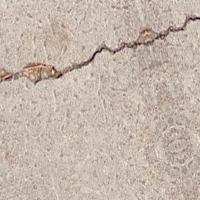crack: (3, 1, 199, 102)
